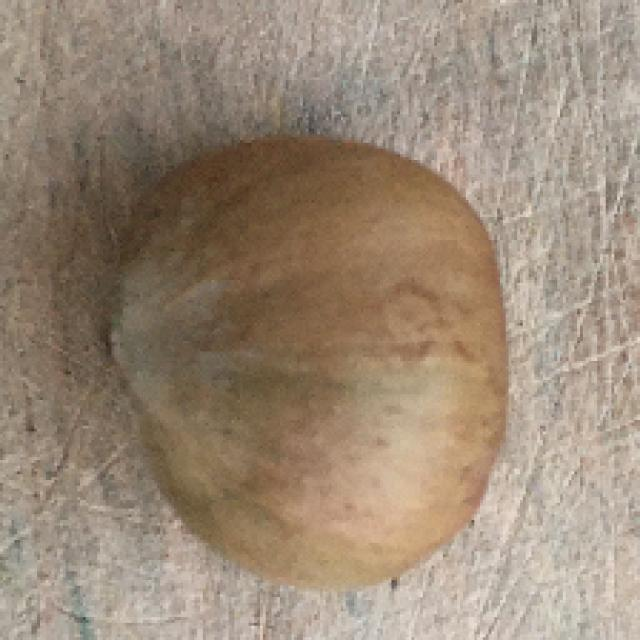damagedHazelnut: (104, 120, 511, 594)
